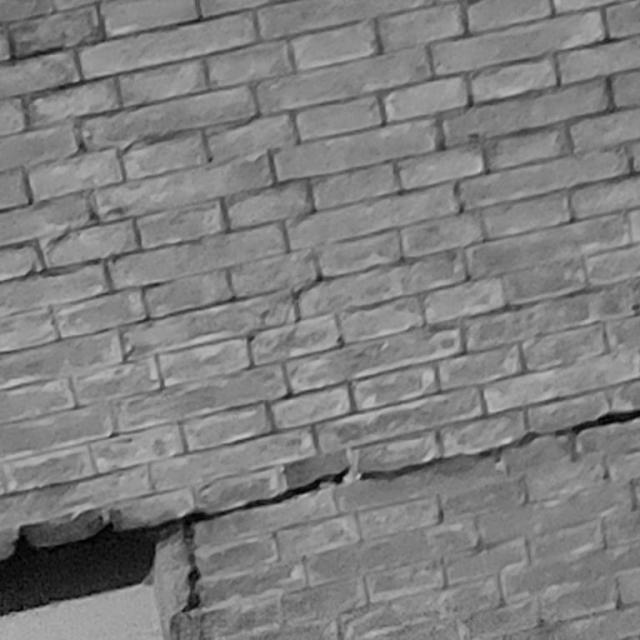crack: (1, 409, 640, 612)
